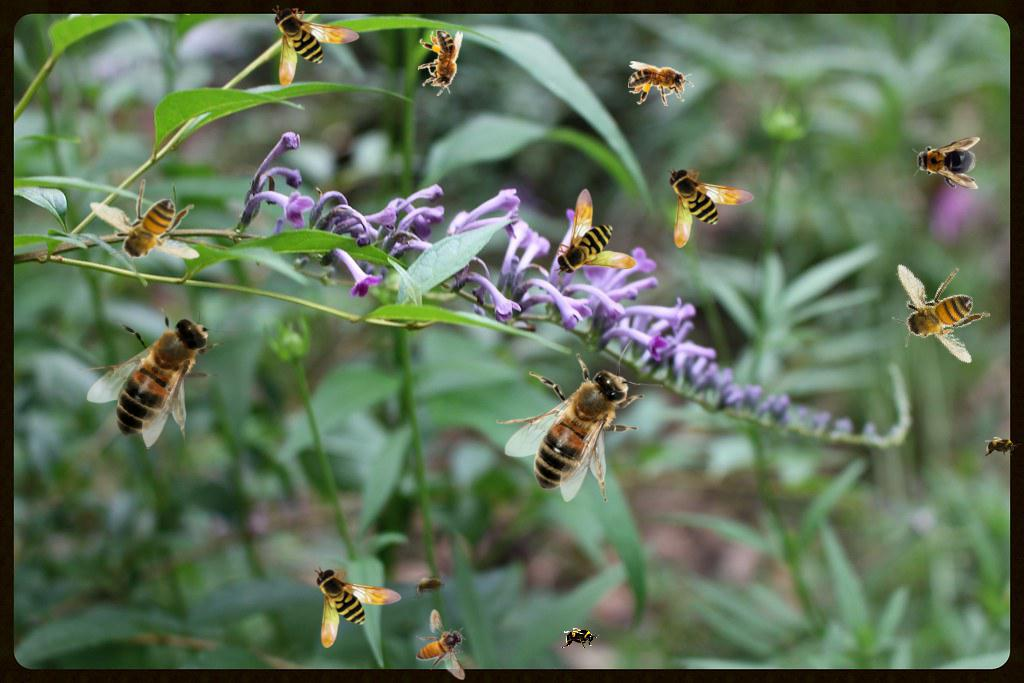Bee: (496, 340, 663, 502), (77, 287, 244, 449), (865, 242, 1008, 378), (89, 179, 200, 273), (314, 566, 402, 648), (554, 188, 636, 276), (272, 5, 360, 87), (667, 166, 755, 248), (416, 609, 466, 680), (912, 137, 980, 189), (628, 61, 694, 106), (418, 30, 463, 96), (408, 571, 452, 601), (560, 627, 600, 649), (981, 436, 1021, 458)
